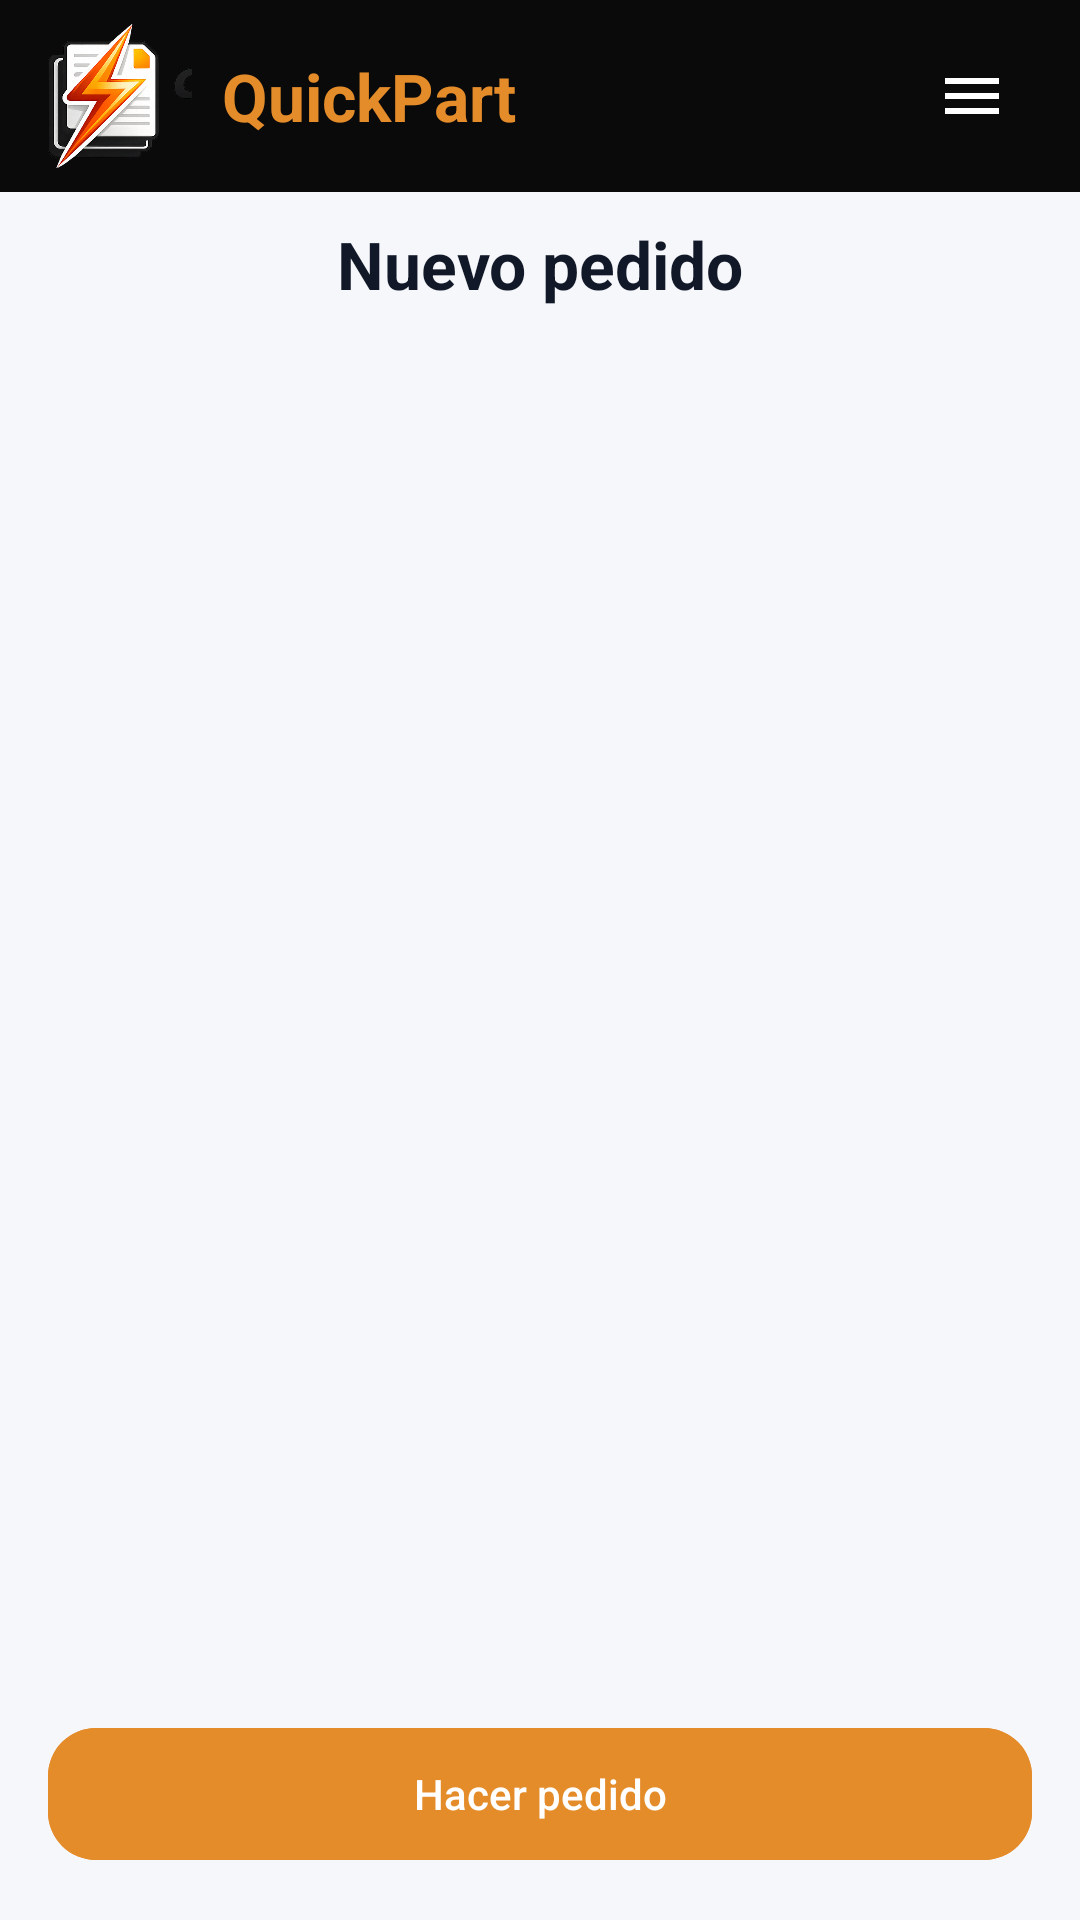

Screen size 1080px×1920px. Icon name, then its box in pixels as [x1,y1,x2,y2]:
Menu: [945,78,999,114]
